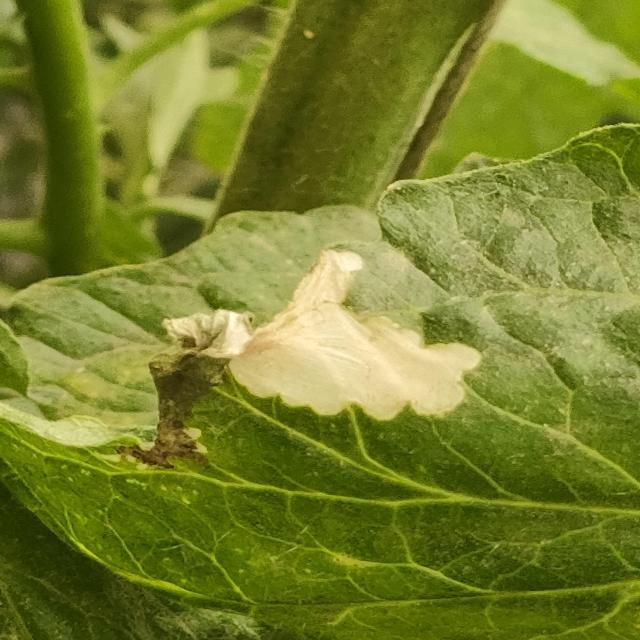Tuta absoluta: (224, 235, 491, 498)
